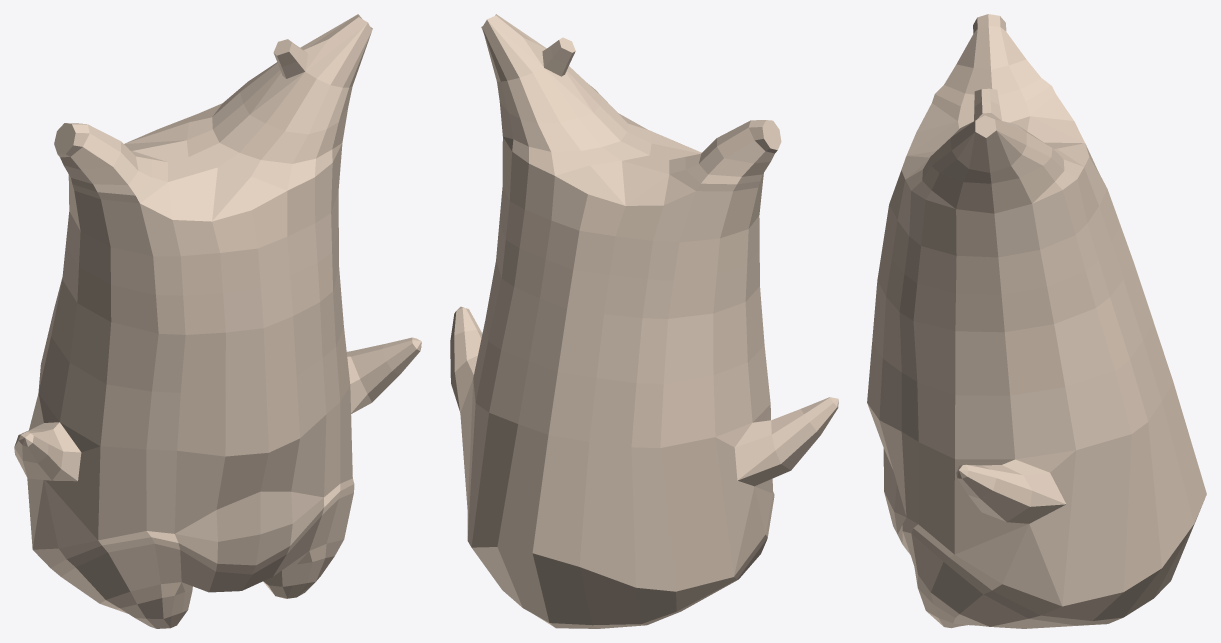
The model's file is frame_0108.obj.
The picture shows the model from 3 angles, left to right: view 1: azimuth 30°, elevation 25°; view 2: azimuth 150°, elevation 25°; view 3: azimuth 270°, elevation 25°; orthographic projection. The views are drawn at different scales.
Visible parts, largest first — view 1: korok; view 2: korok; view 3: korok.
Boxes of the visible parts, <box> form: korok: <box>14,14,421,628</box>; korok: <box>450,14,838,628</box>; korok: <box>867,14,1206,628</box>.
Bounding box in the file's own units: 1.47 × 1.94 × 1.06.
